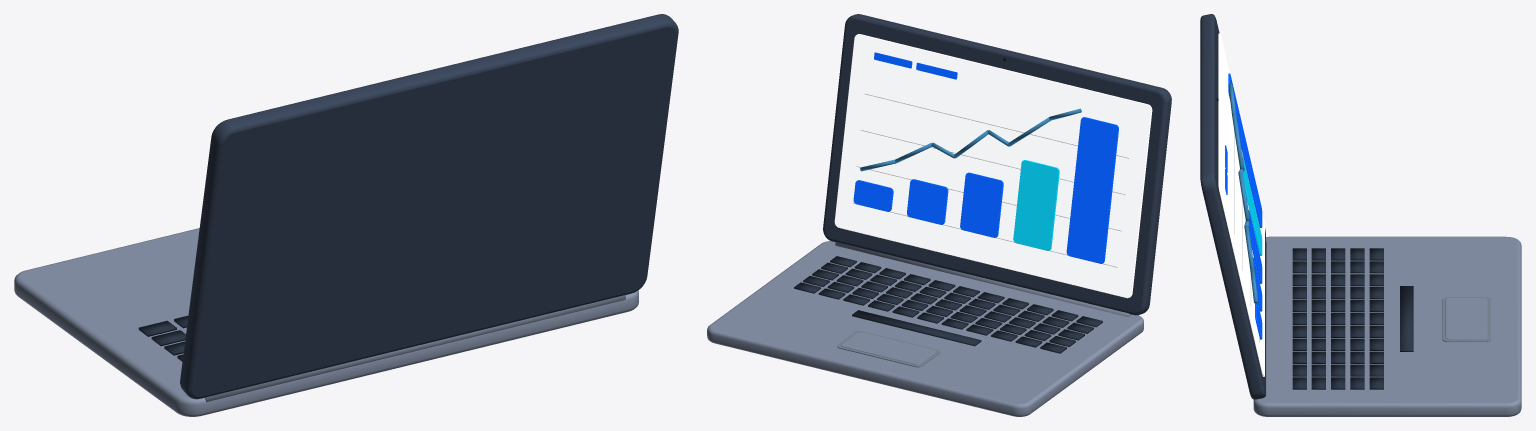
The model's file is 23-nodeworks-laptop-dashboard.glb.
3 renders of one model, left to right at view 1: azimuth 30°, elevation 25°; view 2: azimuth 150°, elevation 25°; view 3: azimuth 270°, elevation 25°, orthographic. The views are drawn at different scales.
Visible parts, largest first — view 1: laptop_screen_frame, laptop_base, laptop_hinge, laptop_keyboard_keys; view 2: laptop_dashboard_display, laptop_base, laptop_screen_frame, laptop_keyboard_keys, dashboard_bar_5, dashboard_bar_4, dashboard_bar_3, laptop_trackpad_face, dashboard_bar_2, laptop_hinge, dashboard_bar_1, laptop_trackpad_border; view 3: laptop_base, laptop_keyboard_keys, laptop_screen_frame, laptop_dashboard_display, laptop_trackpad_face, dashboard_bar_5, dashboard_bar_4, laptop_trackpad_border, dashboard_bar_3.
Part boxes in pixels (<box>): laptop_screen_frame: <box>180,14,678,399</box>; laptop_base: <box>14,228,638,416</box>; laptop_hinge: <box>204,295,625,402</box>; laptop_keyboard_keys: <box>138,315,188,361</box>; laptop_dashboard_display: <box>834,34,1152,298</box>; laptop_base: <box>707,241,1143,416</box>; laptop_screen_frame: <box>823,14,1171,315</box>; laptop_keyboard_keys: <box>794,256,1102,353</box>; dashboard_bar_5: <box>1066,117,1118,263</box>; dashboard_bar_4: <box>1013,160,1059,250</box>; dashboard_bar_3: <box>960,172,1003,237</box>; laptop_trackpad_face: <box>841,332,936,364</box>; dashboard_bar_2: <box>907,179,948,224</box>; laptop_hinge: <box>835,242,1131,317</box>; dashboard_bar_1: <box>853,180,893,211</box>; laptop_trackpad_border: <box>837,331,940,367</box>; laptop_base: <box>1253,236,1521,416</box>; laptop_keyboard_keys: <box>1292,248,1413,389</box>; laptop_screen_frame: <box>1200,14,1265,399</box>; laptop_dashboard_display: <box>1218,33,1264,376</box>; laptop_trackpad_face: <box>1445,298,1487,339</box>; dashboard_bar_5: <box>1228,73,1262,227</box>; dashboard_bar_4: <box>1242,157,1262,255</box>; laptop_trackpad_border: <box>1442,297,1490,341</box>; dashboard_bar_3: <box>1248,210,1262,283</box>.
Size of the model in its own units: 0.3403 by 0.2246 by 0.2731.
